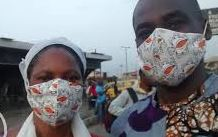with_facemask: (28, 84, 96, 126), (139, 40, 200, 82)
